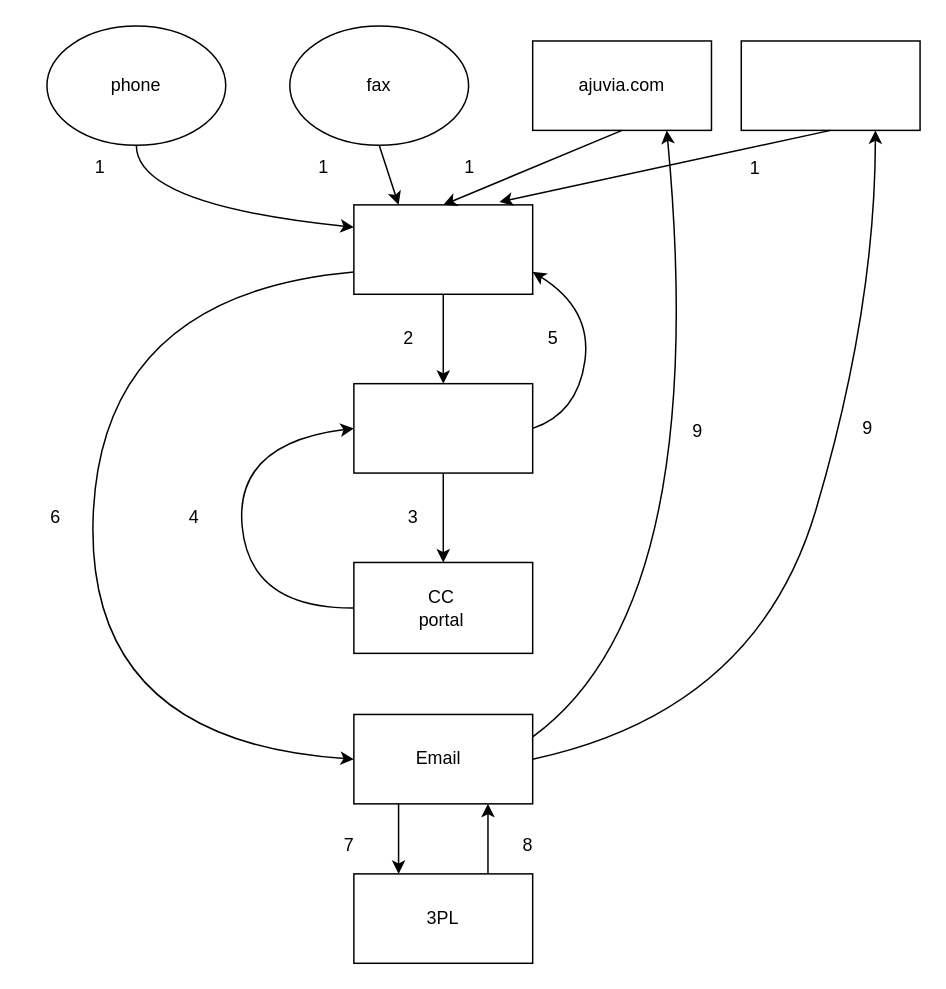
Some shapes in this 946 by 989 pixel diagram are drawn without their labels. Here are the shapes that lost their labels. From the top down, the centre of each, then its label:
At point (830, 84): "amazon...".
At point (442, 248): "ERP".
At point (442, 427): "QB".
